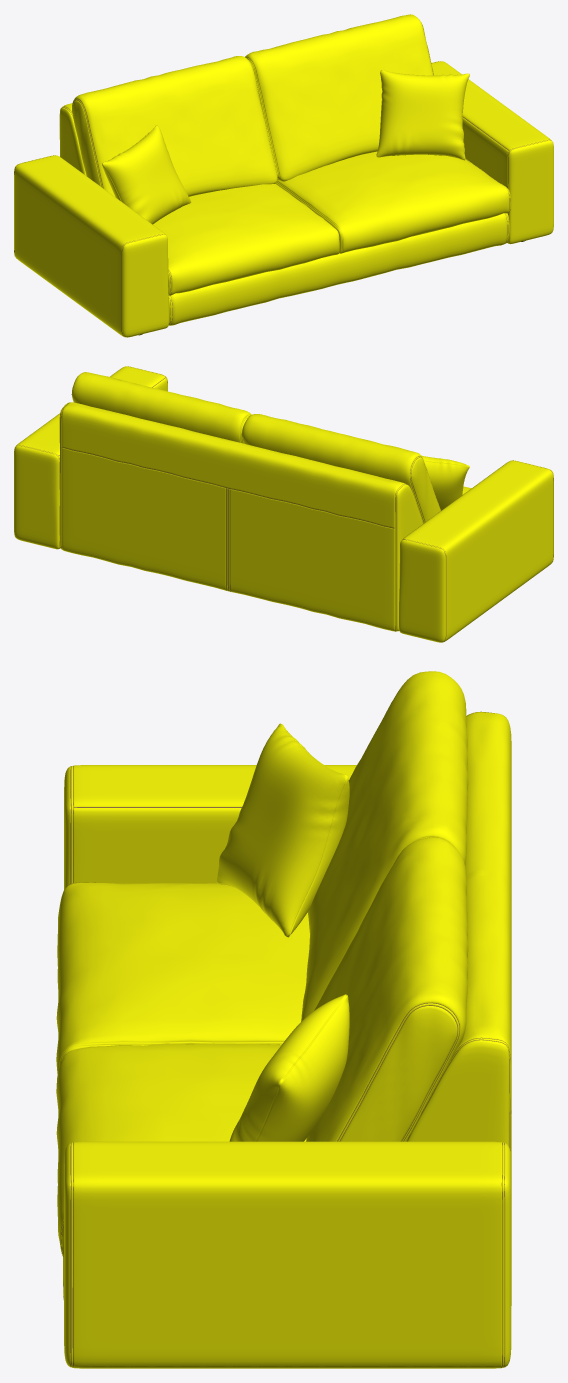
3 renders of one model, top to bottom at view 1: azimuth 30°, elevation 25°; view 2: azimuth 150°, elevation 25°; view 3: azimuth 270°, elevation 25°, orthographic. The views are drawn at different scales.
Visible parts, largest first — view 1: bodyyello33, left33, rightarm33; view 2: bodyyello33, left33, rightarm33; view 3: bodyyello33, rightarm33, left33.
Part boxes in pixels (x1,y1,x2,y2): bodyyello33: [59, 14, 510, 325]; left33: [14, 155, 168, 337]; rightarm33: [431, 61, 553, 244]; bodyyello33: [59, 372, 471, 631]; left33: [399, 460, 553, 642]; rightarm33: [14, 366, 167, 549]; bodyyello33: [56, 671, 511, 1305]; rightarm33: [64, 1141, 511, 1368]; left33: [64, 765, 356, 889].
Bounding box in the file's own units: 2.04 × 0.7768 × 0.9321.
7 materials, 5 textured.
